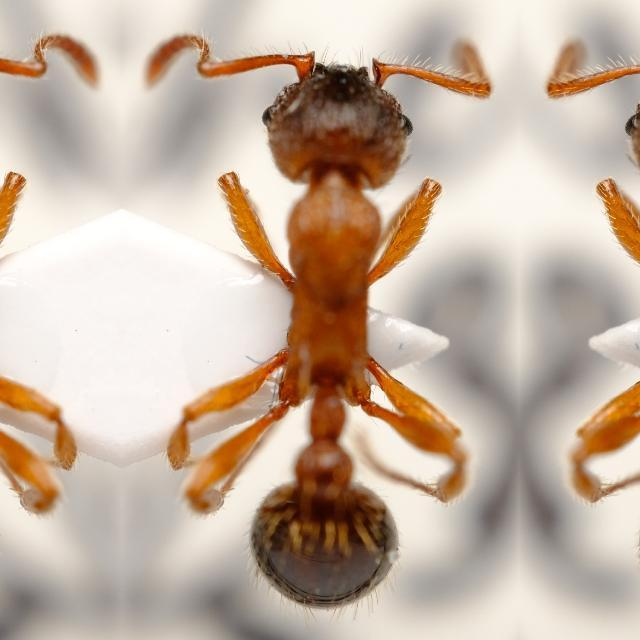Myrmica: (163, 83, 504, 639), (532, 83, 640, 639), (0, 83, 78, 639)
